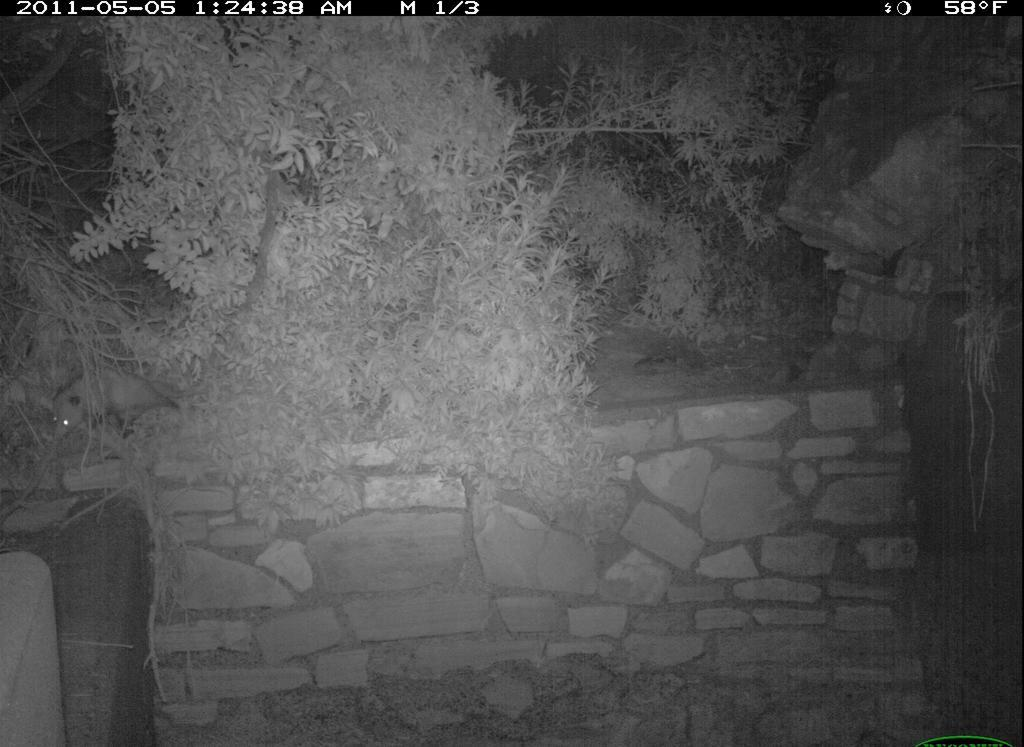opossum: (45, 350, 213, 447)
